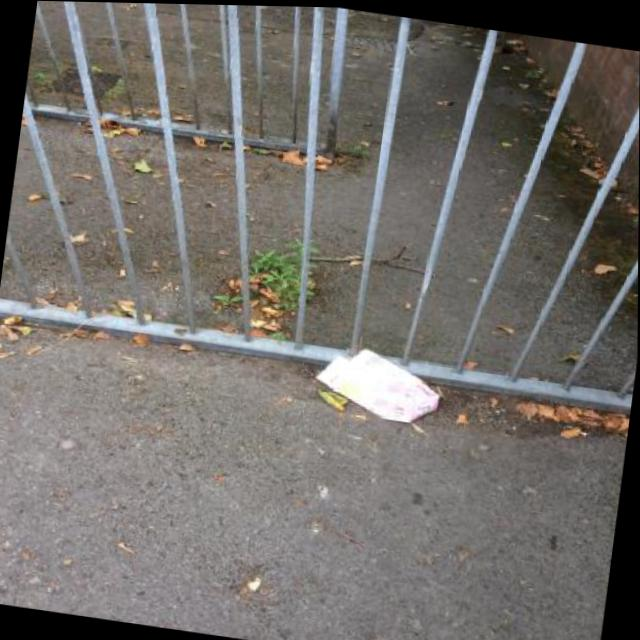cardboard: (310, 340, 444, 425)
